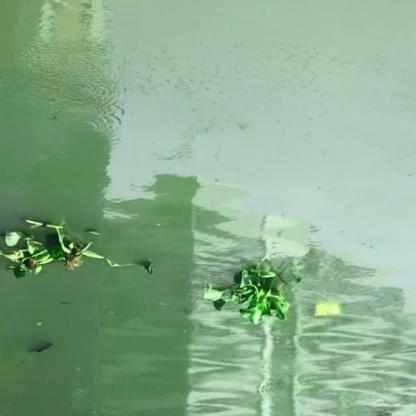Trash: (316, 294, 347, 320)
